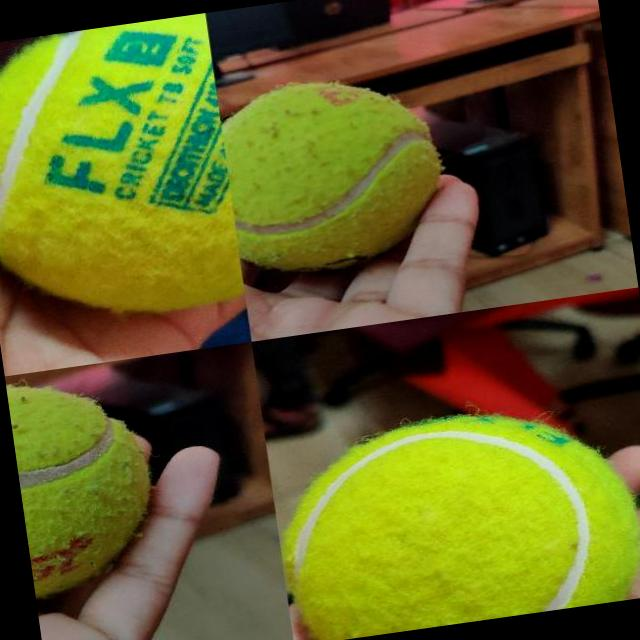Tennis Ball: (267, 394, 640, 640), (0, 13, 244, 334), (216, 65, 451, 280), (7, 370, 164, 598)
